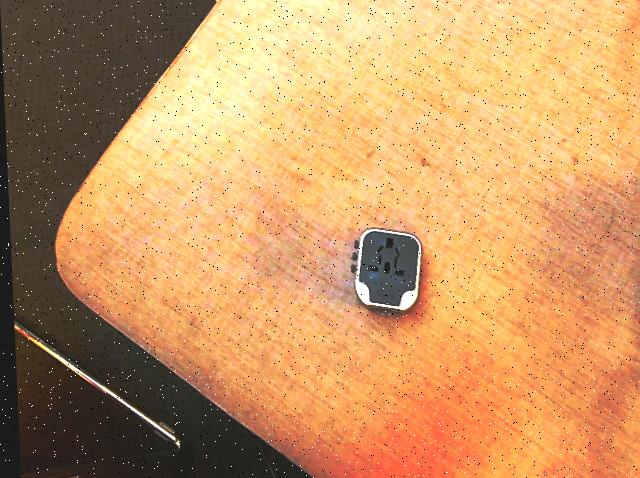adapter: (347, 227, 422, 311)
